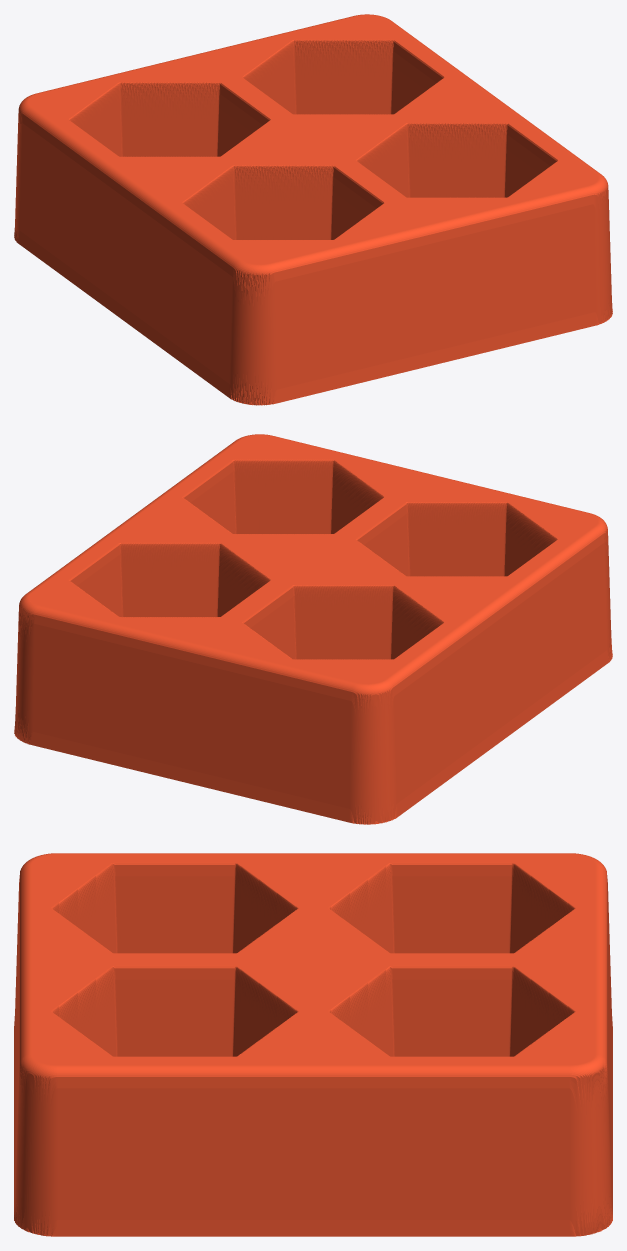
Rendered from mold.glb.
3 renders of one model, top to bottom at view 1: azimuth 30°, elevation 25°; view 2: azimuth 150°, elevation 25°; view 3: azimuth 270°, elevation 25°, orthographic. The views are drawn at different scales.
Parts seen in each view (by area): view 1: geometry_0; view 2: geometry_0; view 3: geometry_0.
Part boxes in pixels (box(x1,y1,x2,y2)): geometry_0: box(14, 14, 612, 405); geometry_0: box(14, 434, 612, 824); geometry_0: box(14, 853, 612, 1236).
Size of the model in its own units: 0.1112 by 0.0377 by 0.1248.
